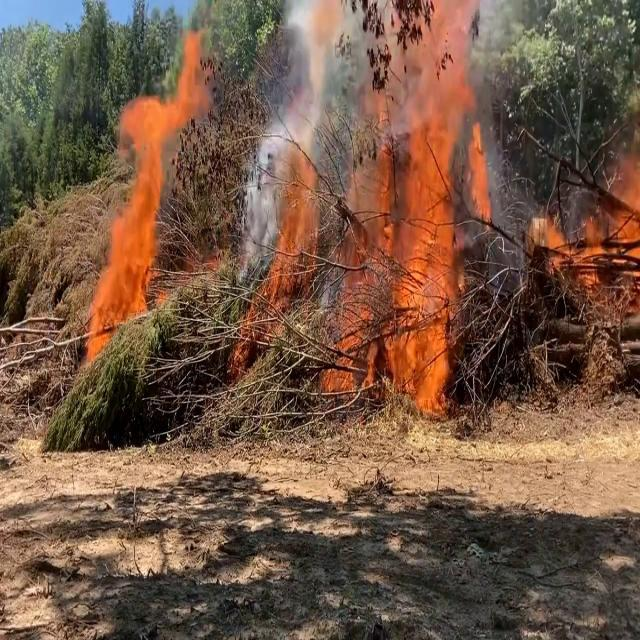Fire: (252, 4, 496, 412), (83, 37, 209, 364), (527, 109, 640, 337)
